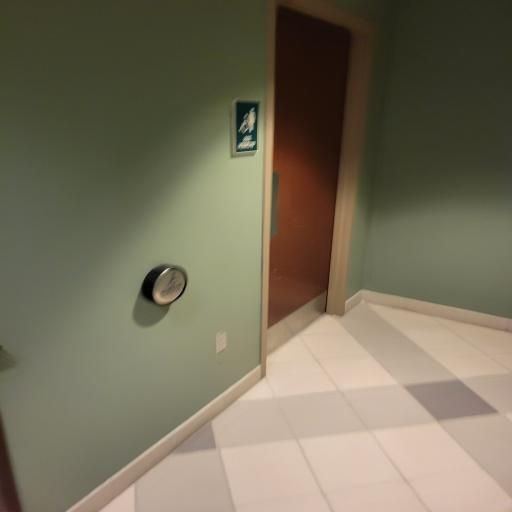door: (261, 0, 363, 364)
handicap push button: (135, 256, 197, 310)
women bathroom sign: (223, 96, 265, 159)
